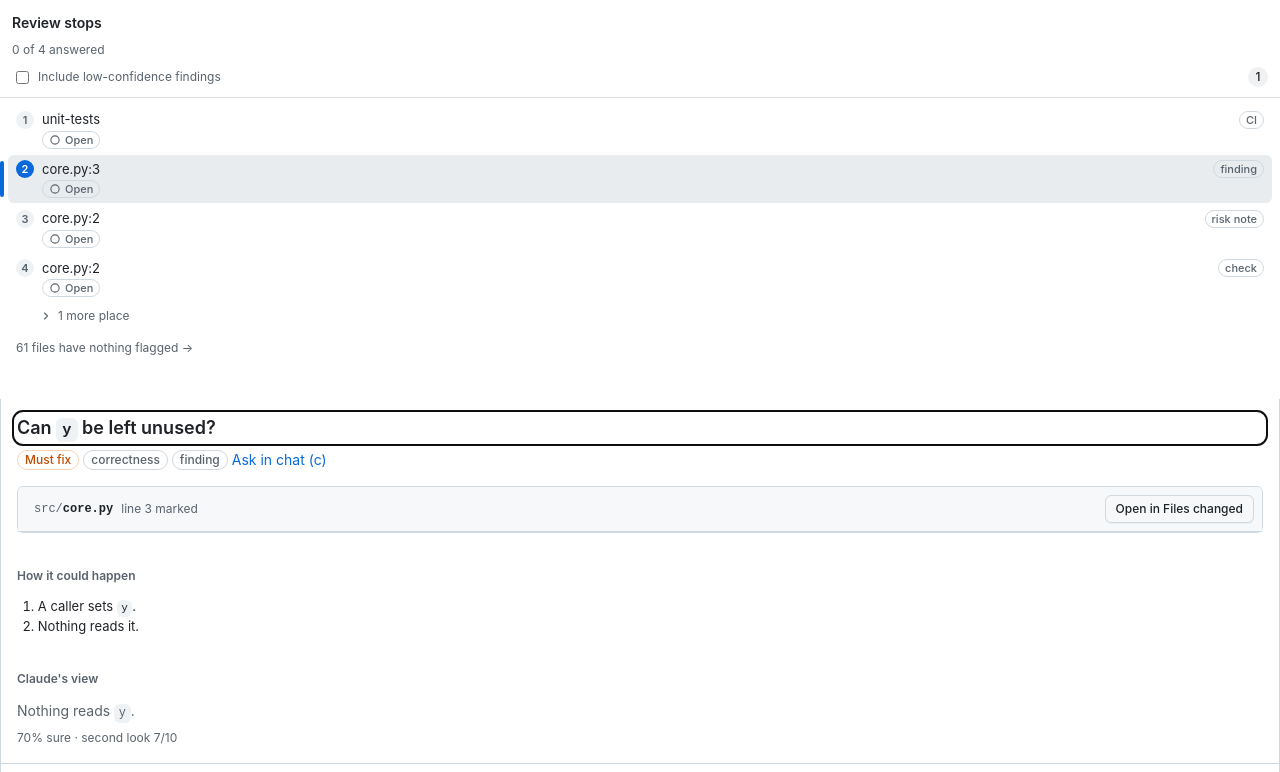
Test: the stop list (DT8) › folds "N more places", and the switch adds low-confidence findings
Check: the text "core.py:4" is not shown
Step 1. Click the button "1 more place" → click(96, 316), box [8,303,1272,329]
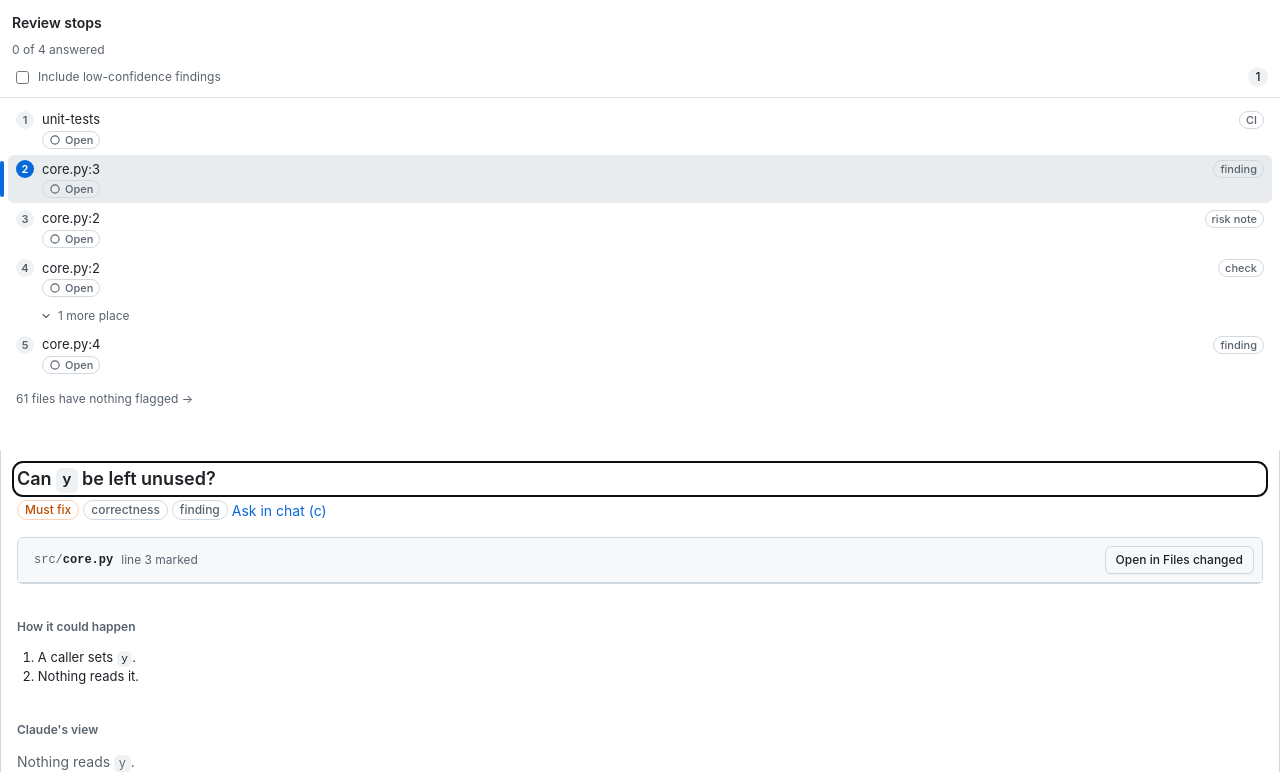
Check: the text "core.py:1" is not shown
Check: the button "1 more place" is expanded, box [8,303,1272,329]
Check: the text "core.py:4" is shown, box [42,336,100,352]
Step 2. Click the switch labelled "Include low-confidence findings 1" → click(22, 77), box [16,70,29,84]
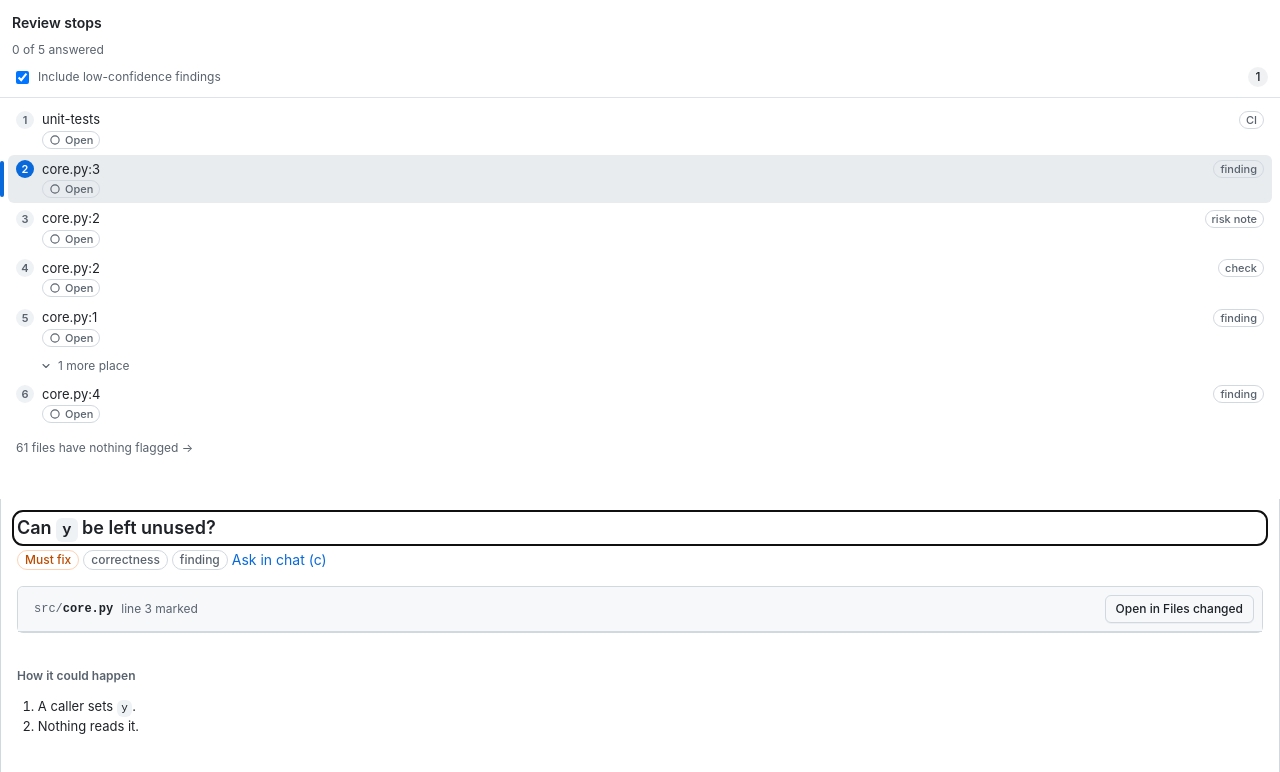
Check: the text "core.py:1" is shown, box [42,309,97,325]
